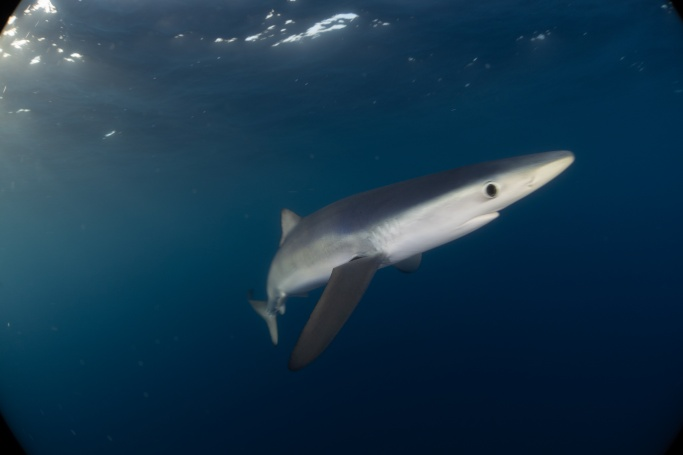Azul: (206, 117, 590, 400)
